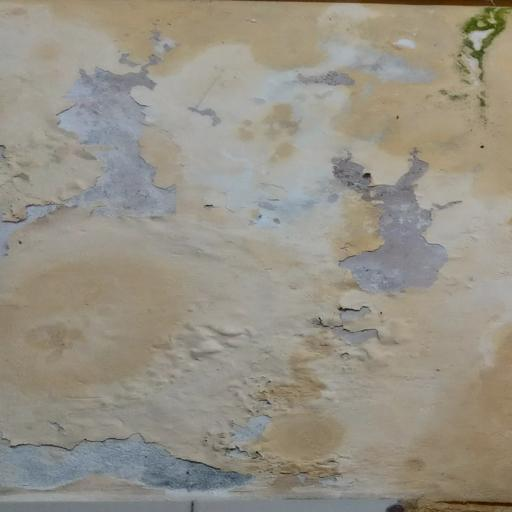peeling: (0, 12, 208, 258), (0, 407, 434, 512), (308, 136, 454, 352)
